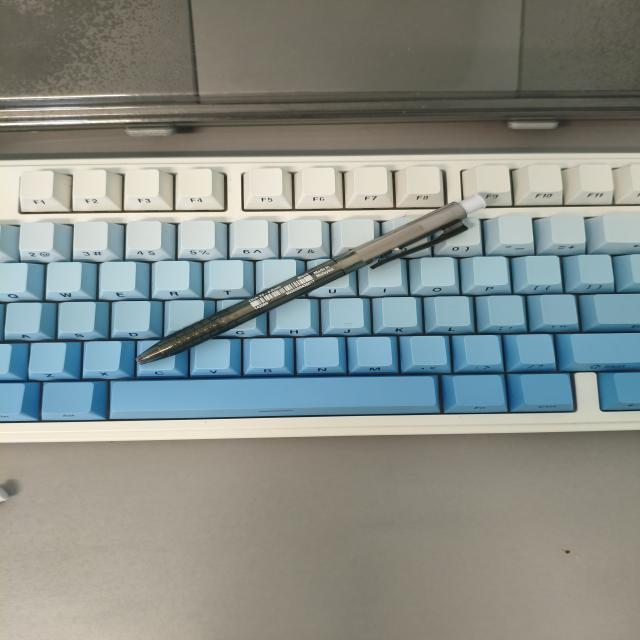pen: (138, 194, 485, 363)
